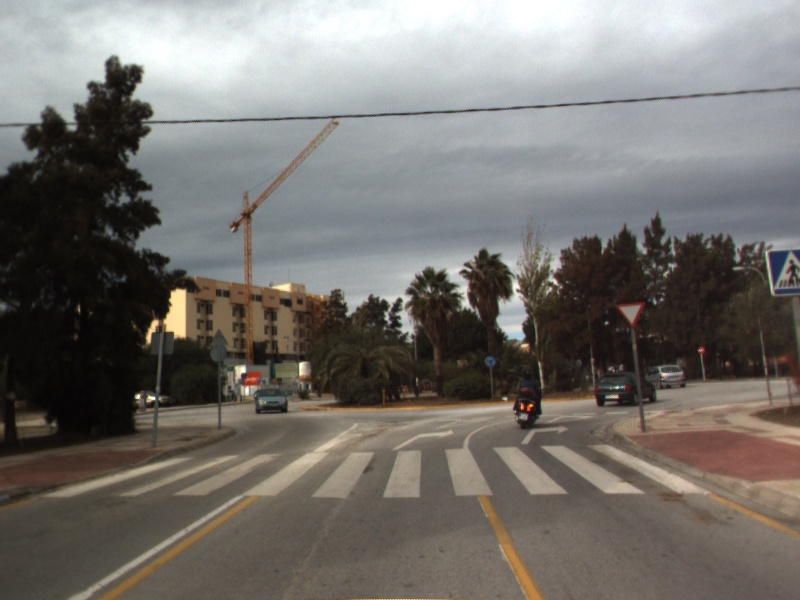RIGHT: (390, 427, 456, 452), (519, 423, 571, 446)
